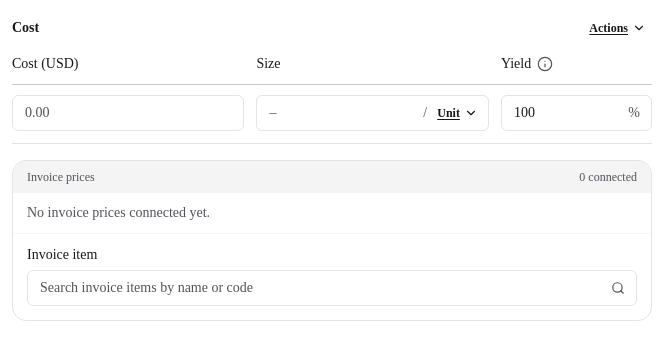
Test: ingredient profile layouts › puts purchase details and price history on the Cost tab
expect the heading "Cost" is shown: met, box [12,20,39,36]
expect the field named "Cost (USD)" is shown: met, box [12,95,244,131]
Click the button "Actions".
click(618, 28)  # box [583,14,652,42]
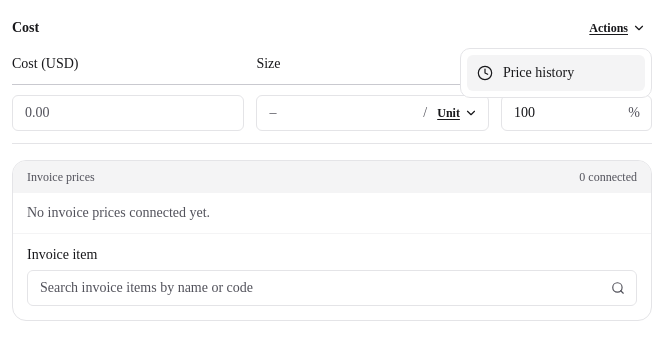
expect the menu item "Price history" is shown: met, box [467,55,645,91]
